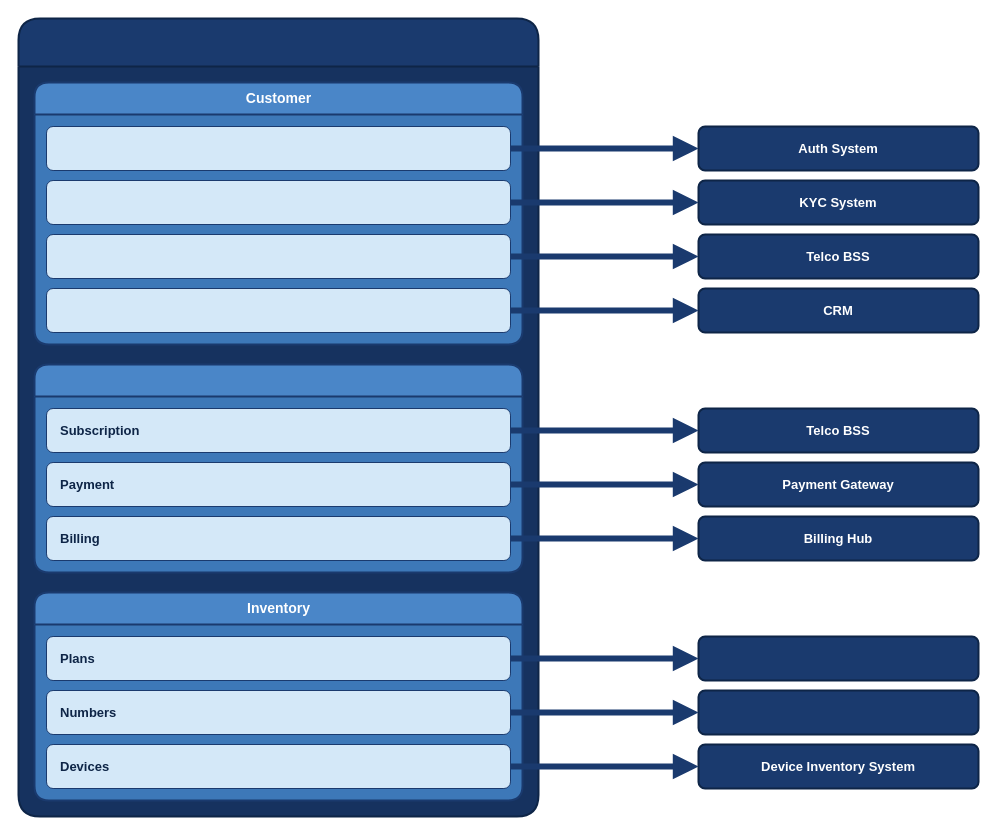
This 996x834 diagram has some shape labels left out. Here are the shapes that lost their labels. From the top down, the box of each, then its label:
(46, 126, 510, 170): Account
(46, 180, 510, 224): Identity verification
(46, 234, 510, 278): Profile
(46, 288, 510, 332): Support
(17, 17, 539, 817): My Paradise
(33, 363, 523, 573): Revenue
(697, 635, 979, 681): Telco Product Catalog
(697, 689, 979, 735): Port Interchange
